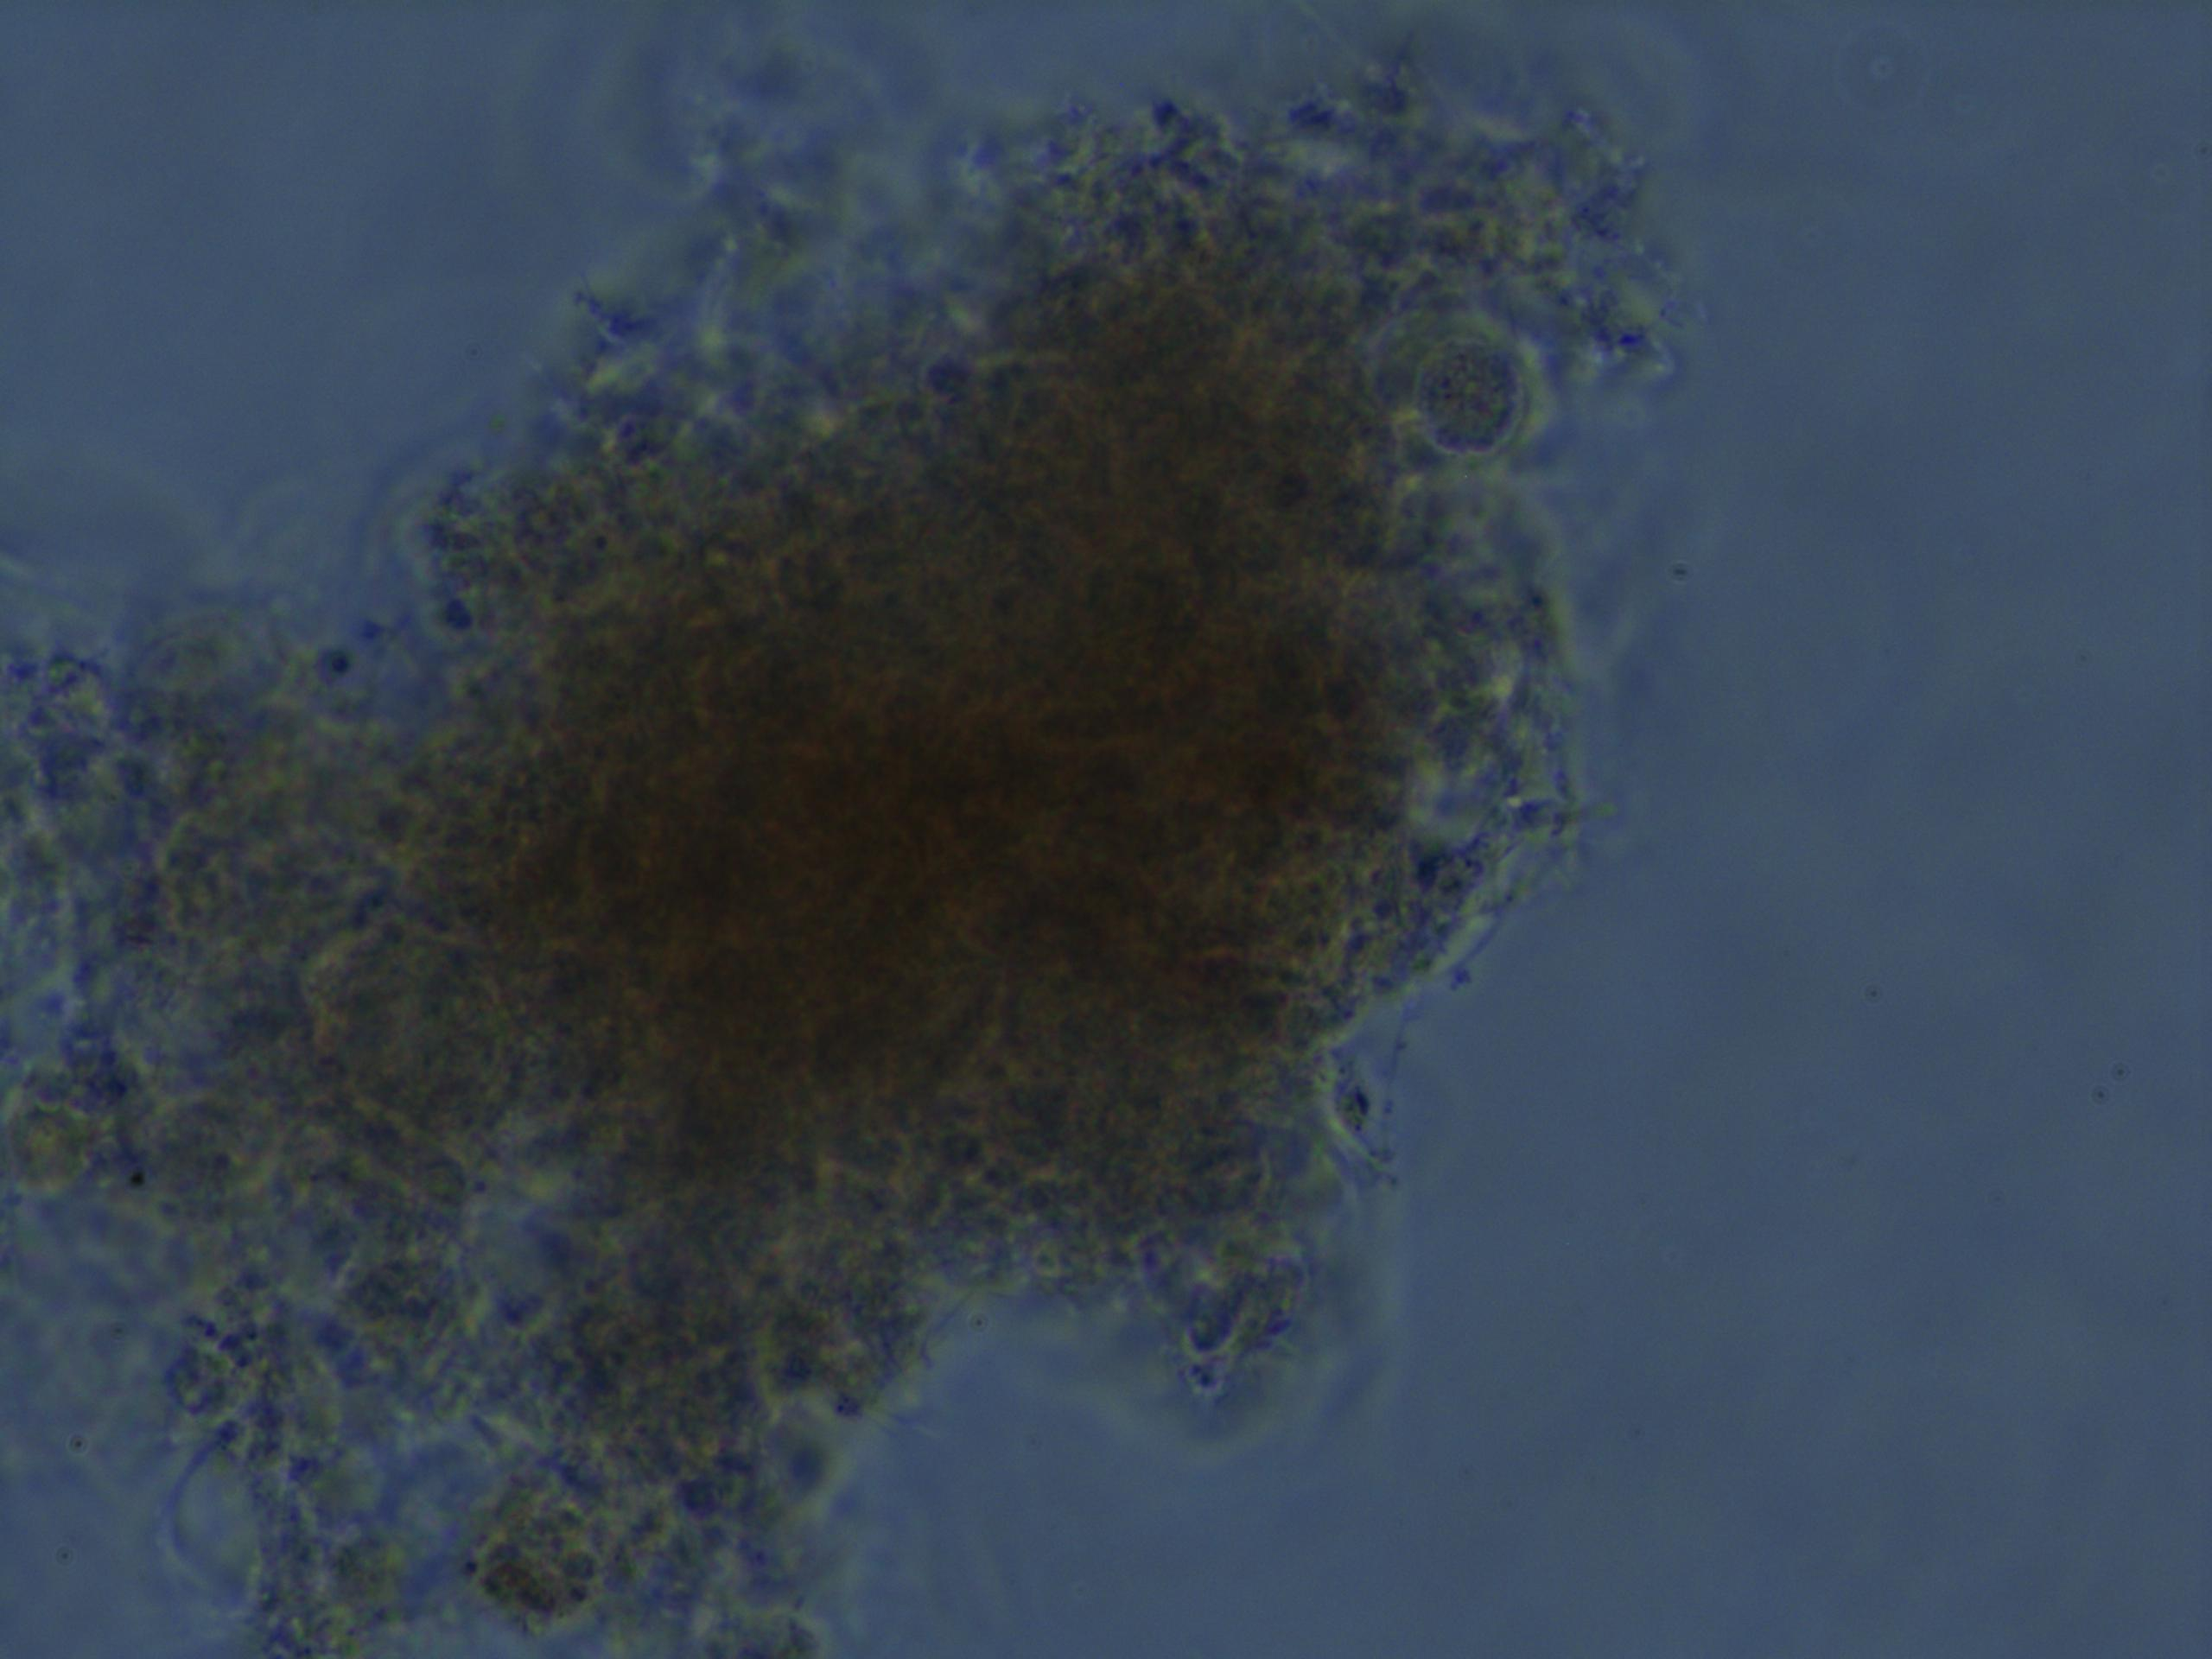spherical_floc: (312, 91, 1696, 1391)
